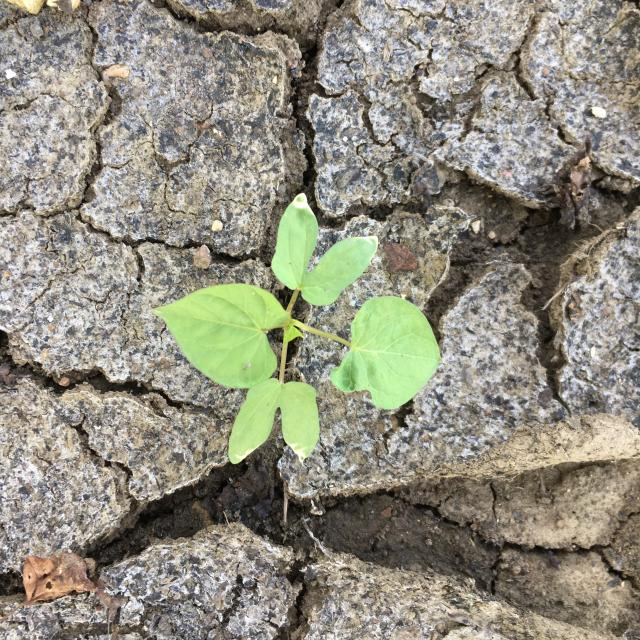MorningGlory: (152, 192, 442, 464)
